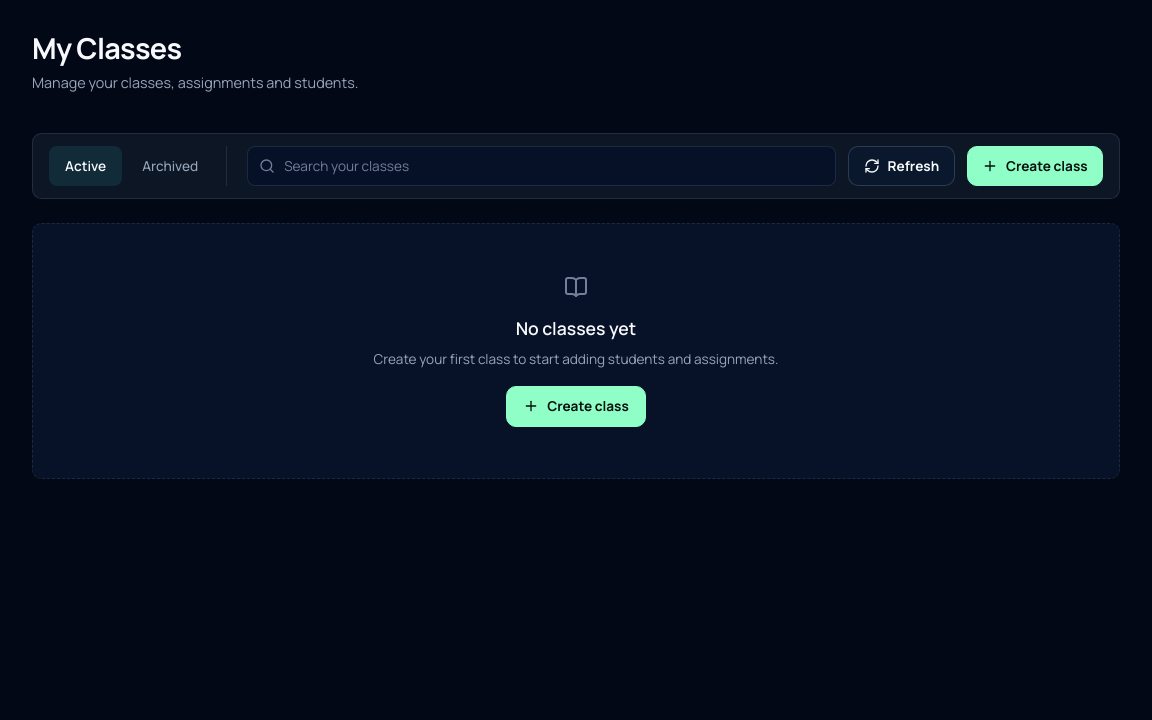
Test: teacher class creation › closes on Escape and returns focus
Click the 1st button "Create class".
click(1035, 166)  # box [967, 146, 1103, 186]
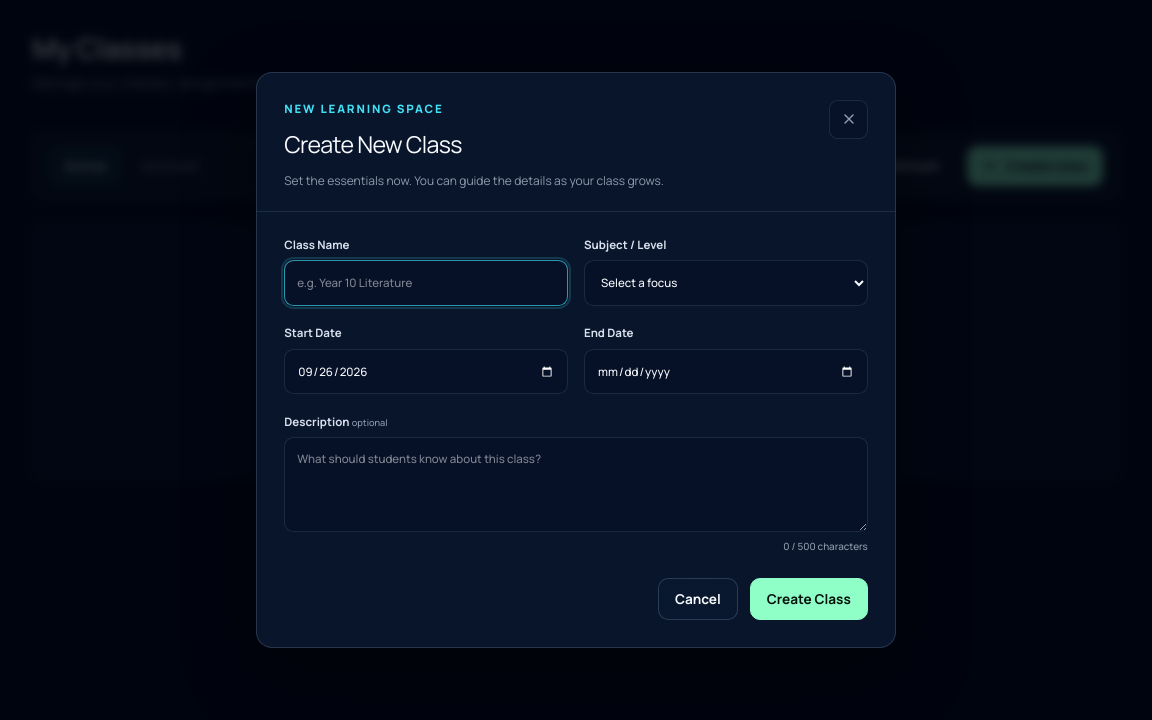
Press Escape
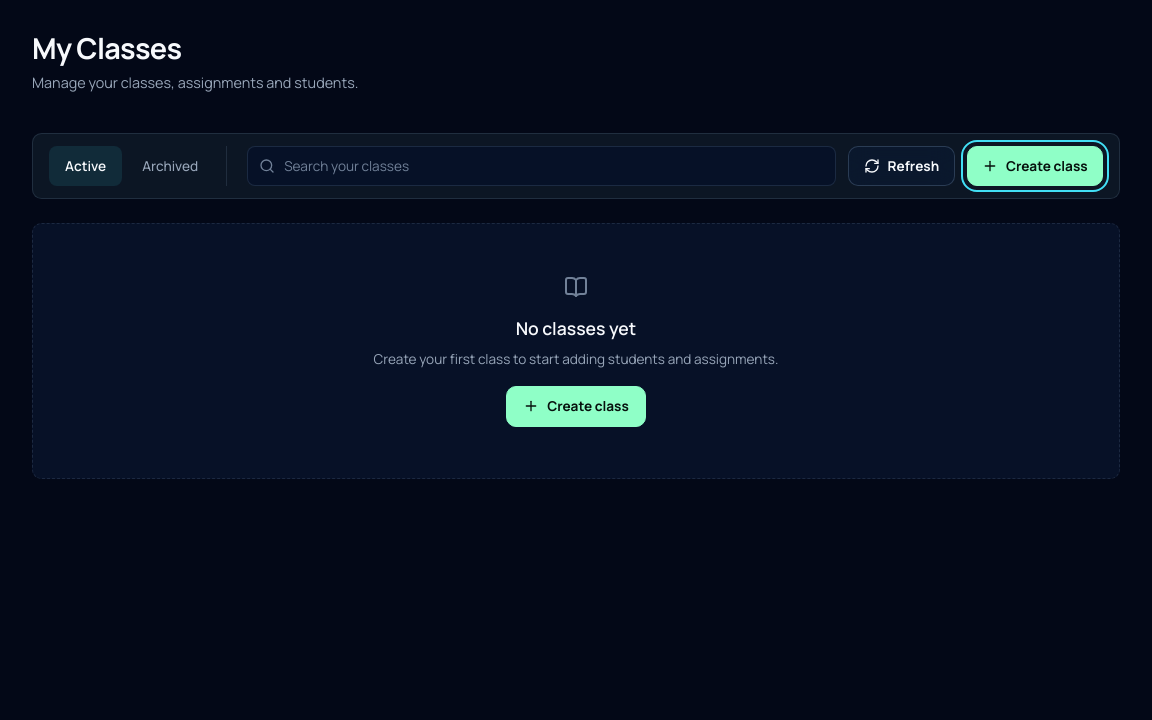
expect the dialog is gone: met
